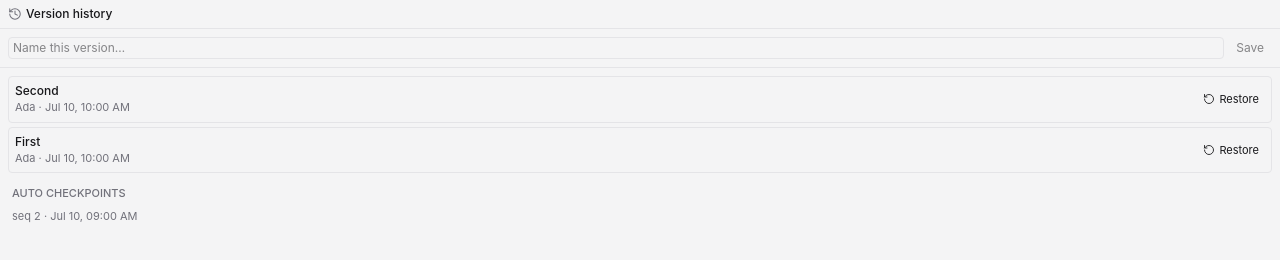
it: VersionHistoryPanel › saves a version then reloads the list
The image size is (1280, 260).
Expected: the list item with test id "version-v2" is shown, [8, 76, 1272, 122]
Type "Milestone" into the field with test id "version-name-input" at (616, 48), box [8, 37, 1224, 59]
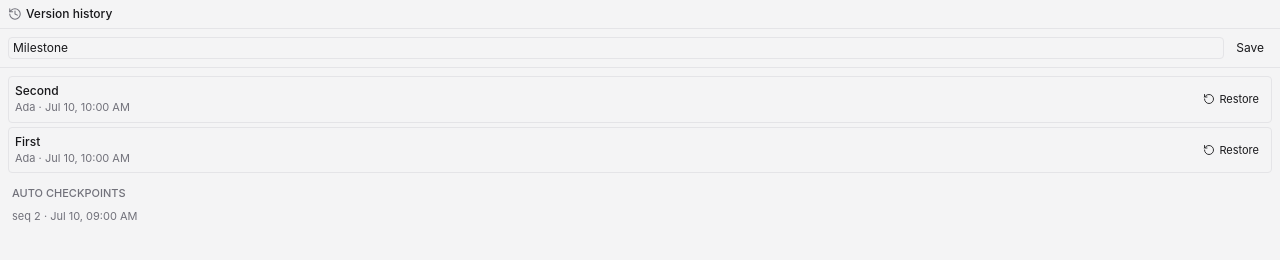
Click the button with test id "version-save" at (1250, 48), box [1228, 38, 1272, 58]
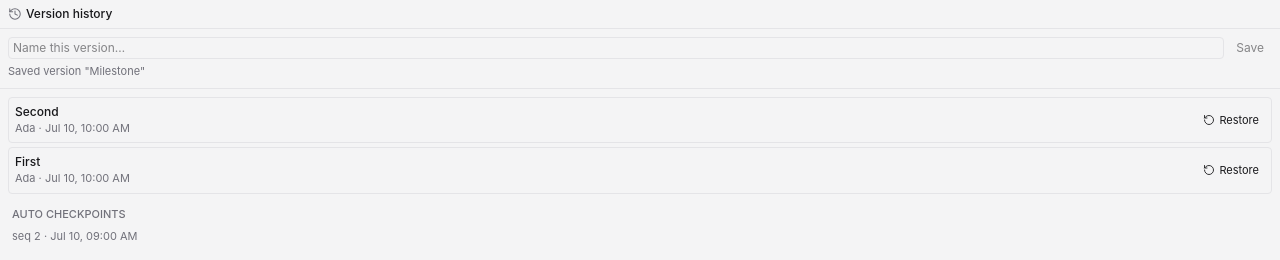
Expected: the text "Saved version \"Milestone\"" is shown, [8, 64, 145, 78]
